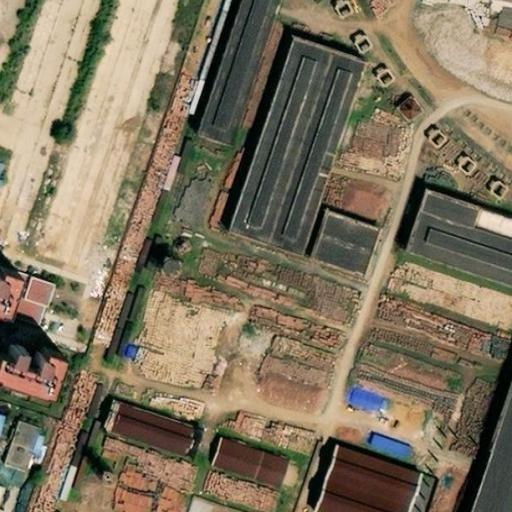building: (220, 45, 354, 253), (415, 210, 512, 307), (463, 380, 512, 512), (328, 454, 432, 512), (110, 416, 206, 477), (209, 444, 302, 503), (294, 204, 363, 271), (5, 427, 44, 484), (342, 381, 385, 416), (370, 446, 414, 476), (392, 91, 425, 125), (186, 494, 247, 511), (493, 5, 512, 35)
